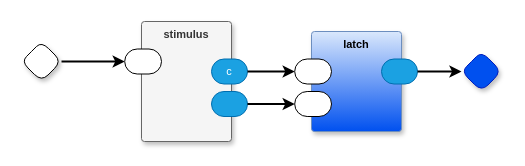
This 525x166 diagram has some shape labels left out. The shapes that lost their labels are listed below. From the top down, each one's centre as x and y in pixels, then its label:
[229,103]: rel
[313,103]: release
